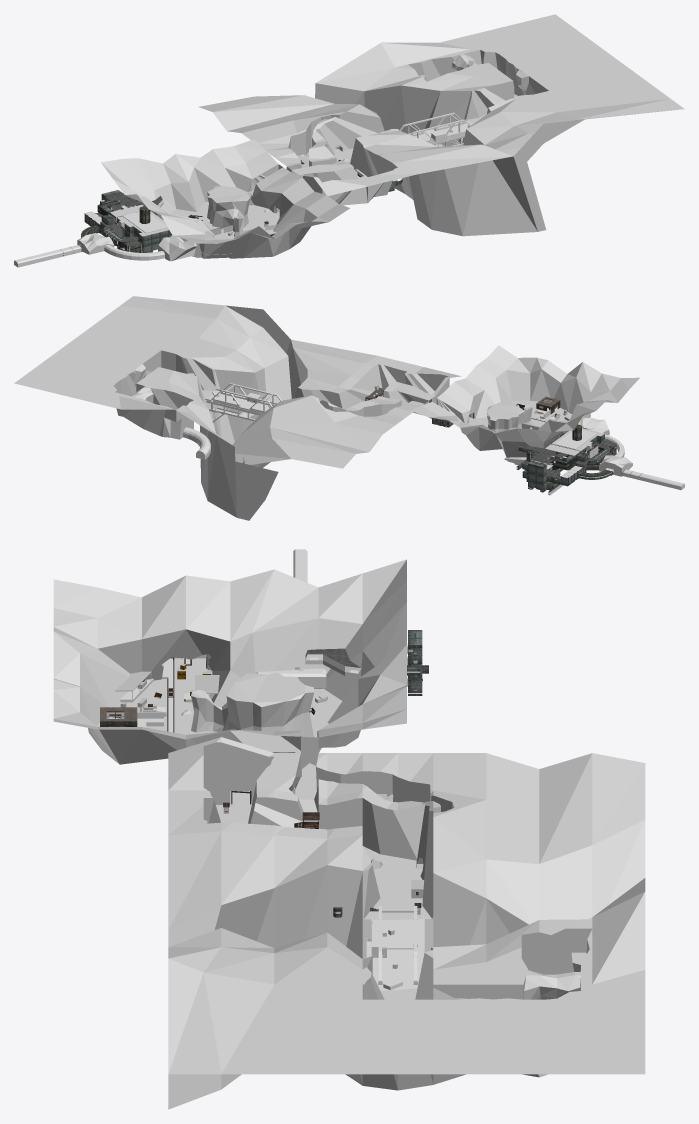
The model's file is merkers.fbx.
3 renders of one model, top to bottom at view 1: azimuth 30°, elevation 25°; view 2: azimuth 150°, elevation 25°; view 3: azimuth 270°, elevation 25°, orthographic. The views are drawn at different scales.
Visible parts, largest first — view 1: Merkers; view 2: Merkers; view 3: Merkers.
Boxes of the visible parts, box(x1,y1,x2,y2) form: Merkers: box(14, 14, 684, 267); Merkers: box(14, 296, 684, 520); Merkers: box(53, 549, 645, 1109).
Bounding box in the file's own units: 40958 × 18010 × 6989.
